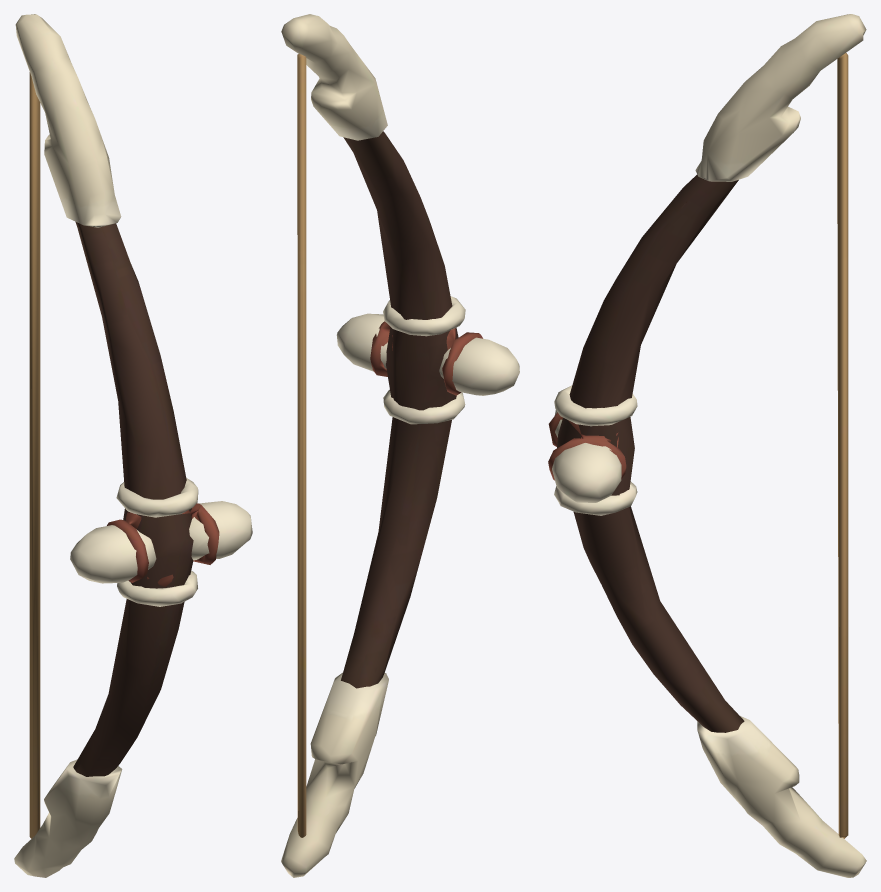
Rendered from shortbow.glb.
3 views of the same model, side by side, from view 1: azimuth 30°, elevation 25°; view 2: azimuth 150°, elevation 25°; view 3: azimuth 270°, elevation 25° (orthographic).
Visible parts, largest first — view 1: limbs; view 2: limbs; view 3: limbs.
Boxes of the visible parts, x1,y1,x2,y2 form: limbs: (14,14,252,877); limbs: (281,14,519,877); limbs: (548,14,866,877).
Size of the model in its own units: 0.1937 by 0.9036 by 0.3035.
1 material, 1 textured.
